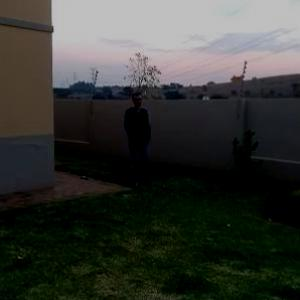follow: (116, 90, 149, 187)
